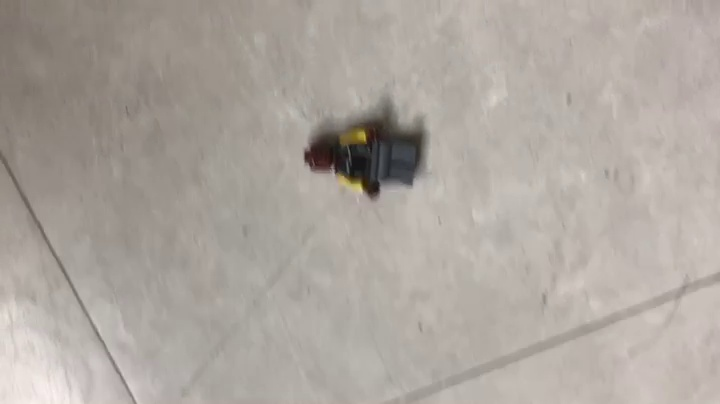people: (300, 124, 426, 198)
